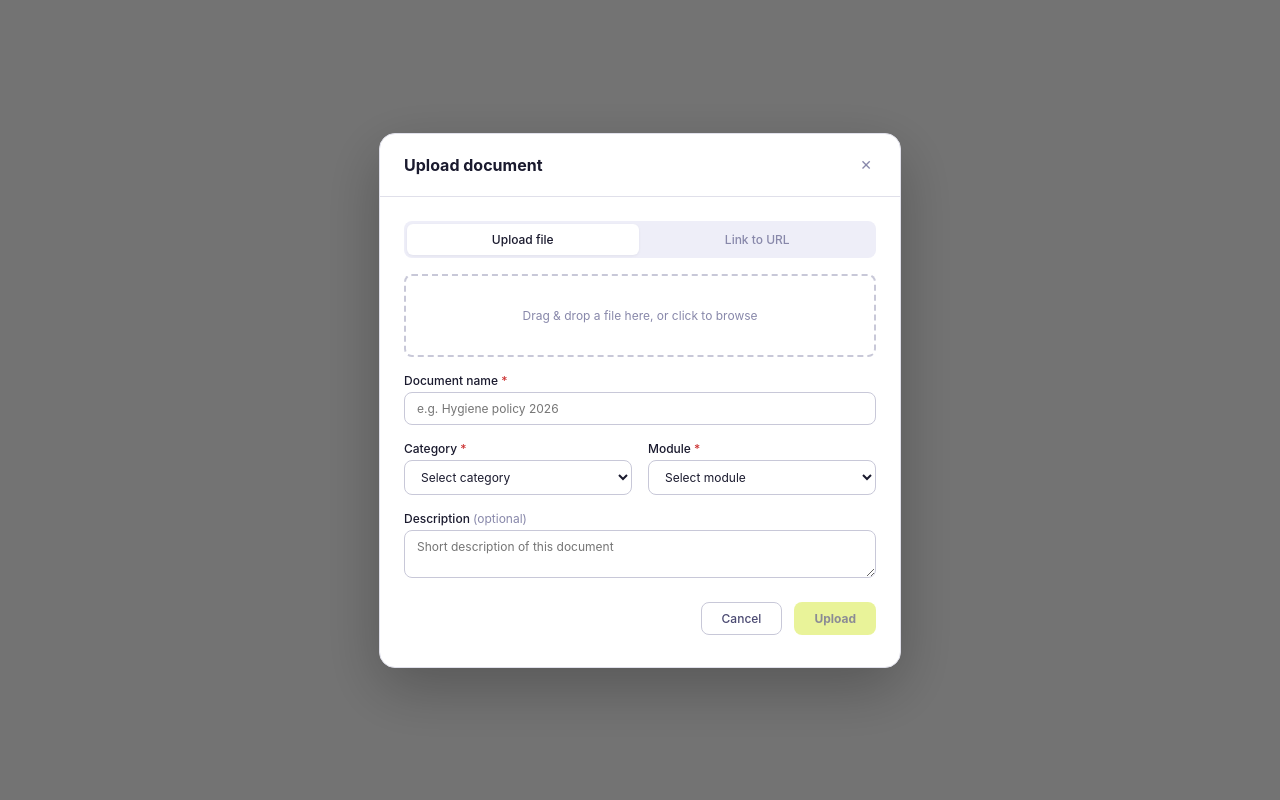
Test: DocumentUploadModal › upload mode toggle › switches back to file mode when "Upload file" is clicked
What coordinates should you click on to do the following:
click the button with class "toggle-btn" showing "Link to URL"
I would click on:
 (757, 239)
Its box is x1=642 y1=224 x2=873 y2=254.
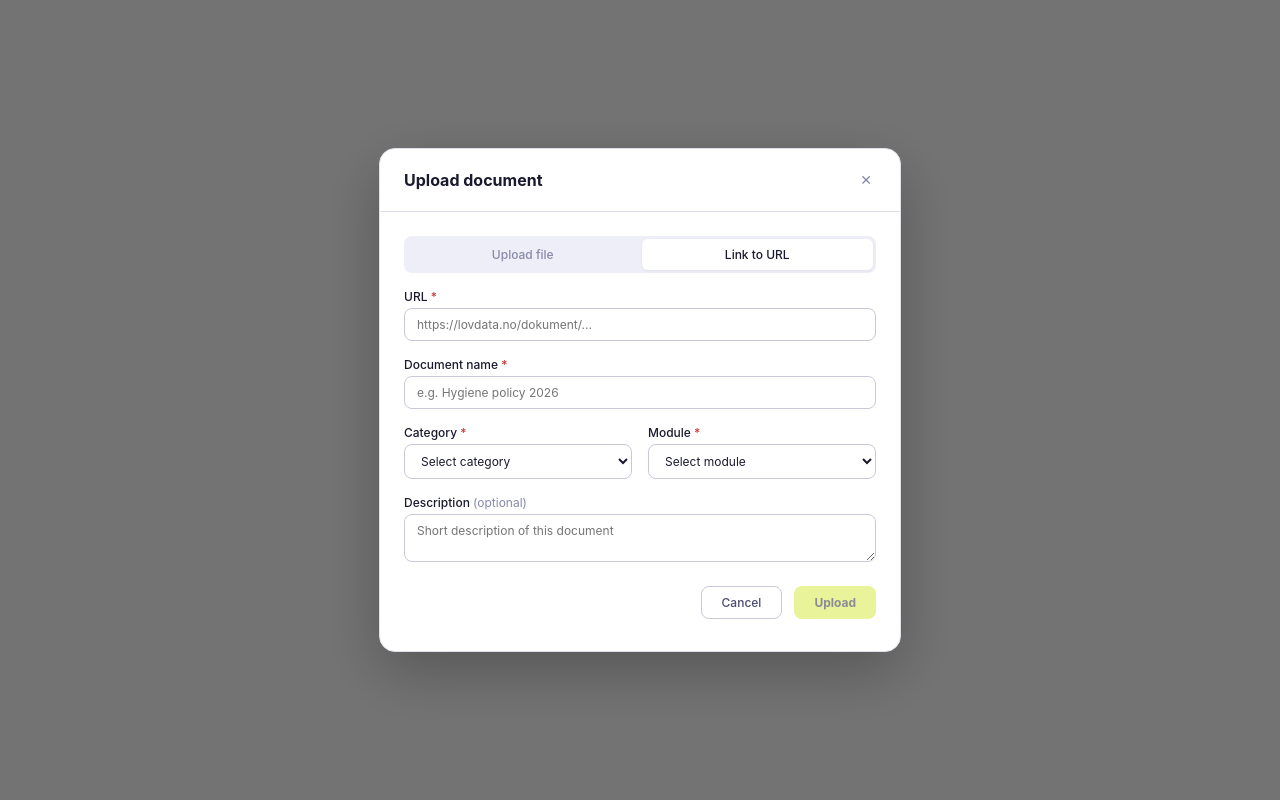
What coordinates should you click on to do the following:
click the button with class "toggle-btn" showing "Upload file"
I would click on:
 (523, 254)
Its box is x1=407 y1=239 x2=638 y2=270.
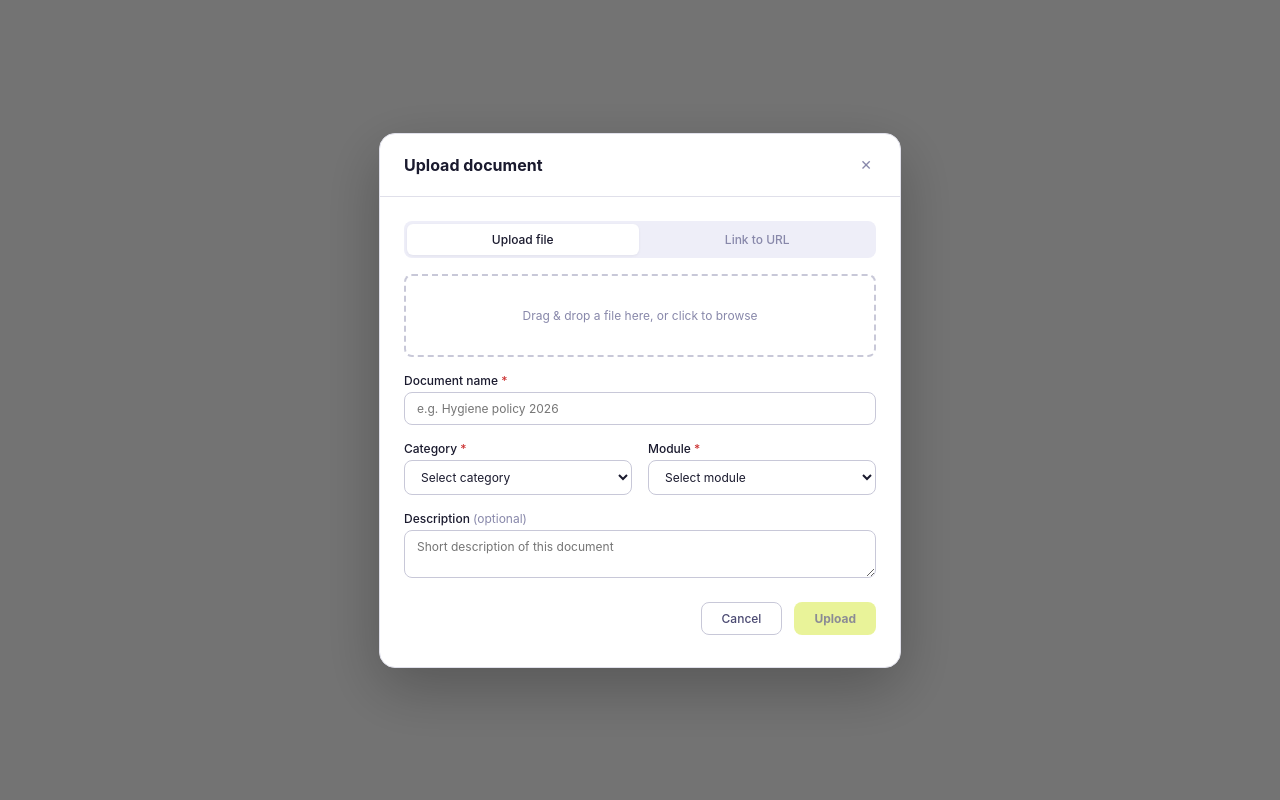
Now the element with class "drop-zone" is shown, box x1=404 y1=274 x2=876 y2=356
